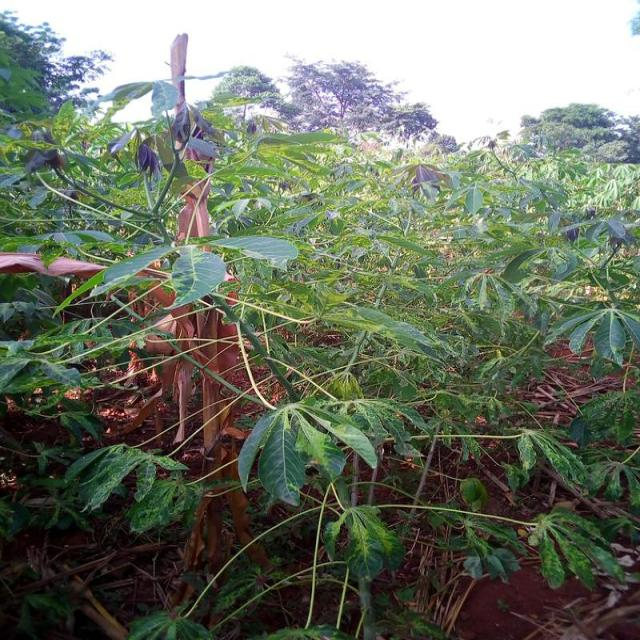cassava leaf: (237, 396, 377, 506), (168, 246, 226, 308)
